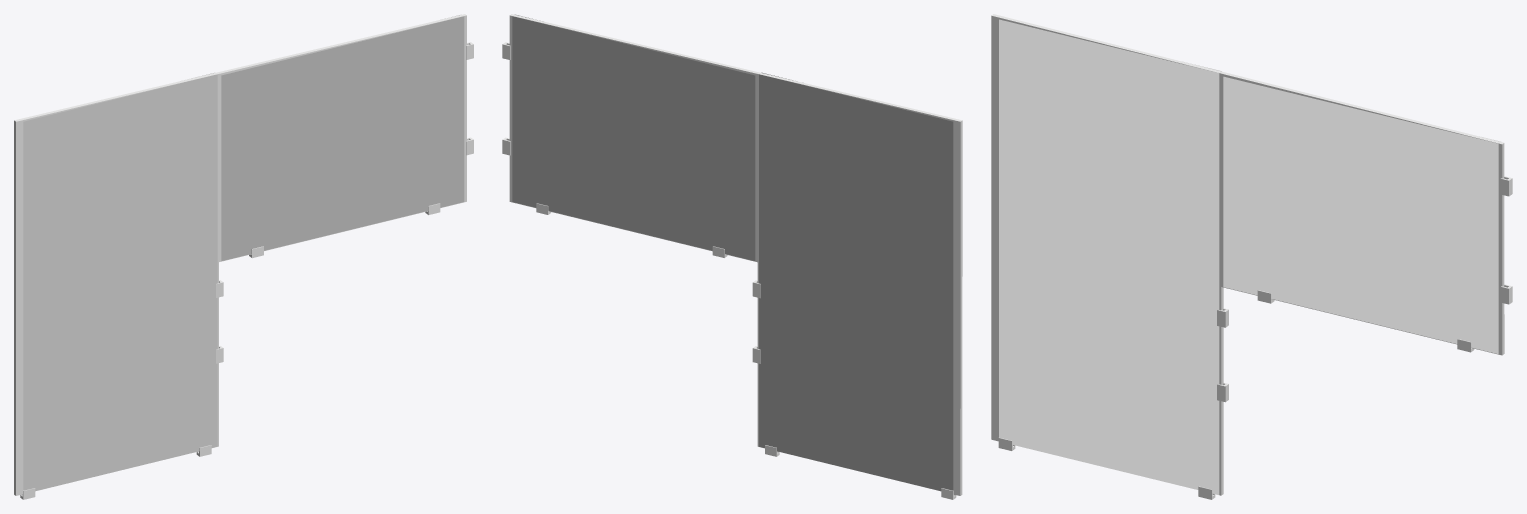
File: ShowerGlass_73a7c1c8.obj
3 views of the same model, side by side, from view 1: azimuth 30°, elevation 25°; view 2: azimuth 150°, elevation 25°; view 3: azimuth 330°, elevation 25° (orthographic). The views are drawn at different scales.
Parts seen in each view (by area): view 1: QuadDecalSpawnPlane_c4c7a391, QuadDecalSpawnPlane_(2)_267a6de3, FP402:polySurface335_c3feb4f2, FP402:polySurface336_004611e6; view 2: QuadDecalSpawnPlane_(1)_002dc93a, QuadDecalSpawnPlane_(3)_a02c9cd8, FP402:polySurface335_c3feb4f2, FP402:polySurface336_004611e6; view 3: QuadDecalSpawnPlane_c4c7a391, QuadDecalSpawnPlane_(2)_267a6de3, FP402:polySurface335_c3feb4f2, FP402:polySurface336_004611e6.
Part boxes in pixels (x1,y1,x2,y2): QuadDecalSpawnPlane_c4c7a391: (23, 74, 217, 491); QuadDecalSpawnPlane_(2)_267a6de3: (221, 16, 464, 261); FP402:polySurface335_c3feb4f2: (14, 14, 466, 495); FP402:polySurface336_004611e6: (20, 42, 473, 499); QuadDecalSpawnPlane_(1)_002dc93a: (759, 74, 953, 490); QuadDecalSpawnPlane_(3)_a02c9cd8: (512, 16, 755, 260); FP402:polySurface335_c3feb4f2: (509, 14, 962, 495); FP402:polySurface336_004611e6: (502, 42, 956, 499); QuadDecalSpawnPlane_c4c7a391: (999, 19, 1219, 494); QuadDecalSpawnPlane_(2)_267a6de3: (1223, 76, 1498, 353); FP402:polySurface335_c3feb4f2: (991, 14, 1504, 495); FP402:polySurface336_004611e6: (998, 176, 1512, 499).
Bounding box in the file's own units: 2.58 × 2.04 × 0.0313.
